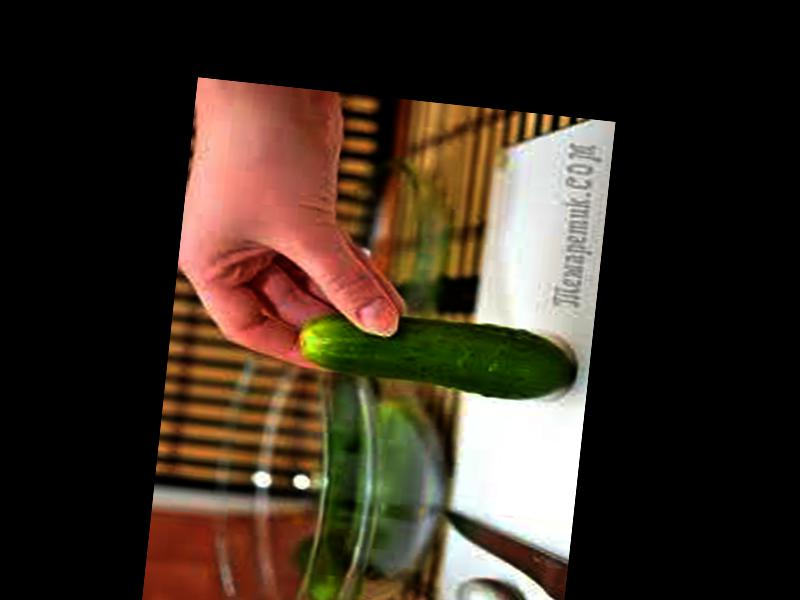Cucumber: (295, 305, 576, 405)
